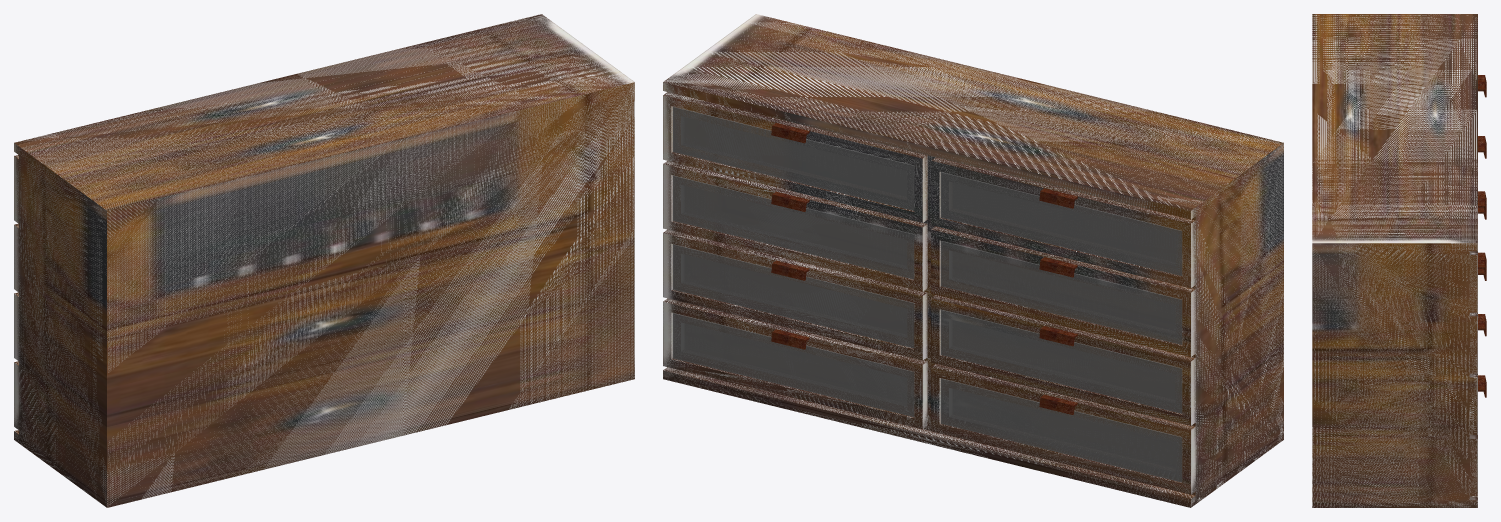
3 renders of one model, left to right at view 1: azimuth 30°, elevation 25°; view 2: azimuth 150°, elevation 25°; view 3: azimuth 270°, elevation 25°, orthographic. The views are drawn at different scales.
Visible parts, largest first — view 1: mesh3_mesh3-geometry; view 2: mesh3_mesh3-geometry, mesh1_mesh1-geometry, mesh2_mesh2-geometry; view 3: mesh3_mesh3-geometry, mesh2_mesh2-geometry.
Boxes of the visible parts, bbox=[...] form: mesh3_mesh3-geometry: bbox=[14, 14, 634, 507]; mesh3_mesh3-geometry: bbox=[663, 14, 1283, 507]; mesh1_mesh1-geometry: bbox=[673, 106, 1182, 482]; mesh2_mesh2-geometry: bbox=[771, 123, 1077, 414]; mesh3_mesh3-geometry: bbox=[1312, 14, 1477, 507]; mesh2_mesh2-geometry: bbox=[1478, 75, 1486, 397].
Size of the model in its own units: 0.8474 by 0.4557 by 0.2724.
